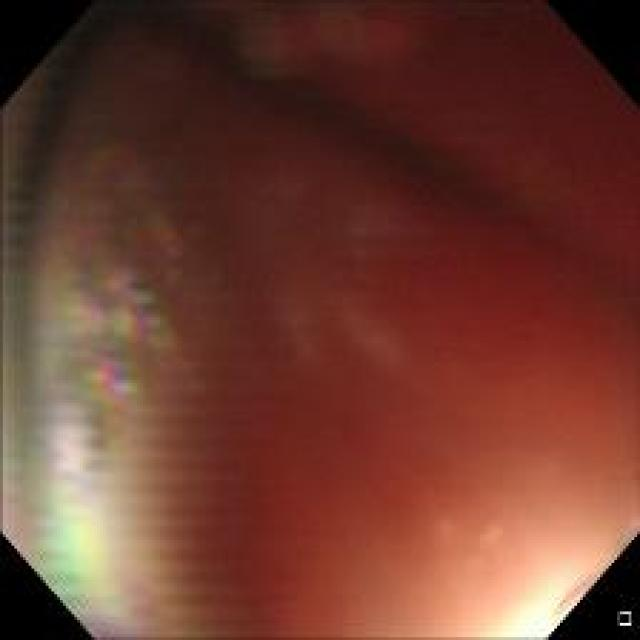color misalignment: (10, 8, 629, 630)
saturation: (496, 589, 568, 635)
